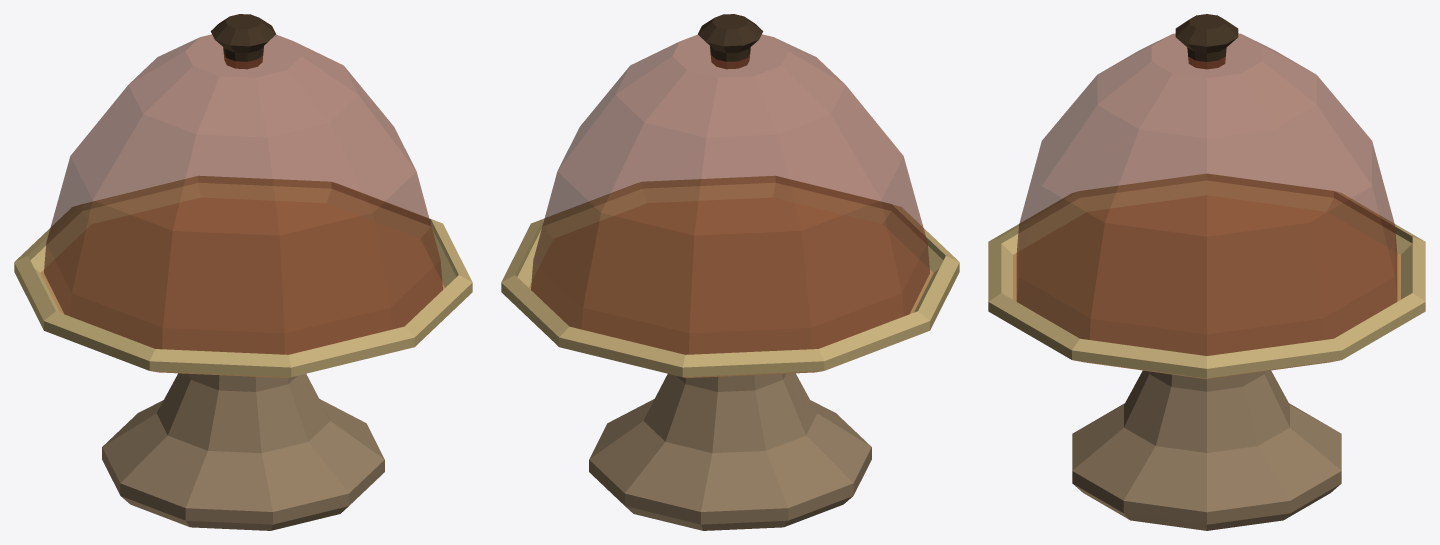
Rendered from cake-stand-ee7396.glb.
3 renders of one model, left to right at view 1: azimuth 30°, elevation 25°; view 2: azimuth 150°, elevation 25°; view 3: azimuth 270°, elevation 25°, orthographic.
Parts seen in each view (by area): view 1: stand, cloche-glass, finial; view 2: stand, cloche-glass, finial; view 3: stand, cloche-glass, finial.
Boxes of the visible parts, x1,y1,x2,y2 form: stand: (14, 176, 472, 530); cloche-glass: (44, 34, 442, 354); finial: (210, 14, 275, 68); stand: (501, 176, 959, 530); cloche-glass: (531, 34, 929, 354); finial: (698, 14, 763, 68); stand: (988, 174, 1425, 530); cloche-glass: (1016, 33, 1397, 355); finial: (1175, 14, 1238, 68).
Size of the model in its own units: 0.3 by 0.327 by 0.2853.
